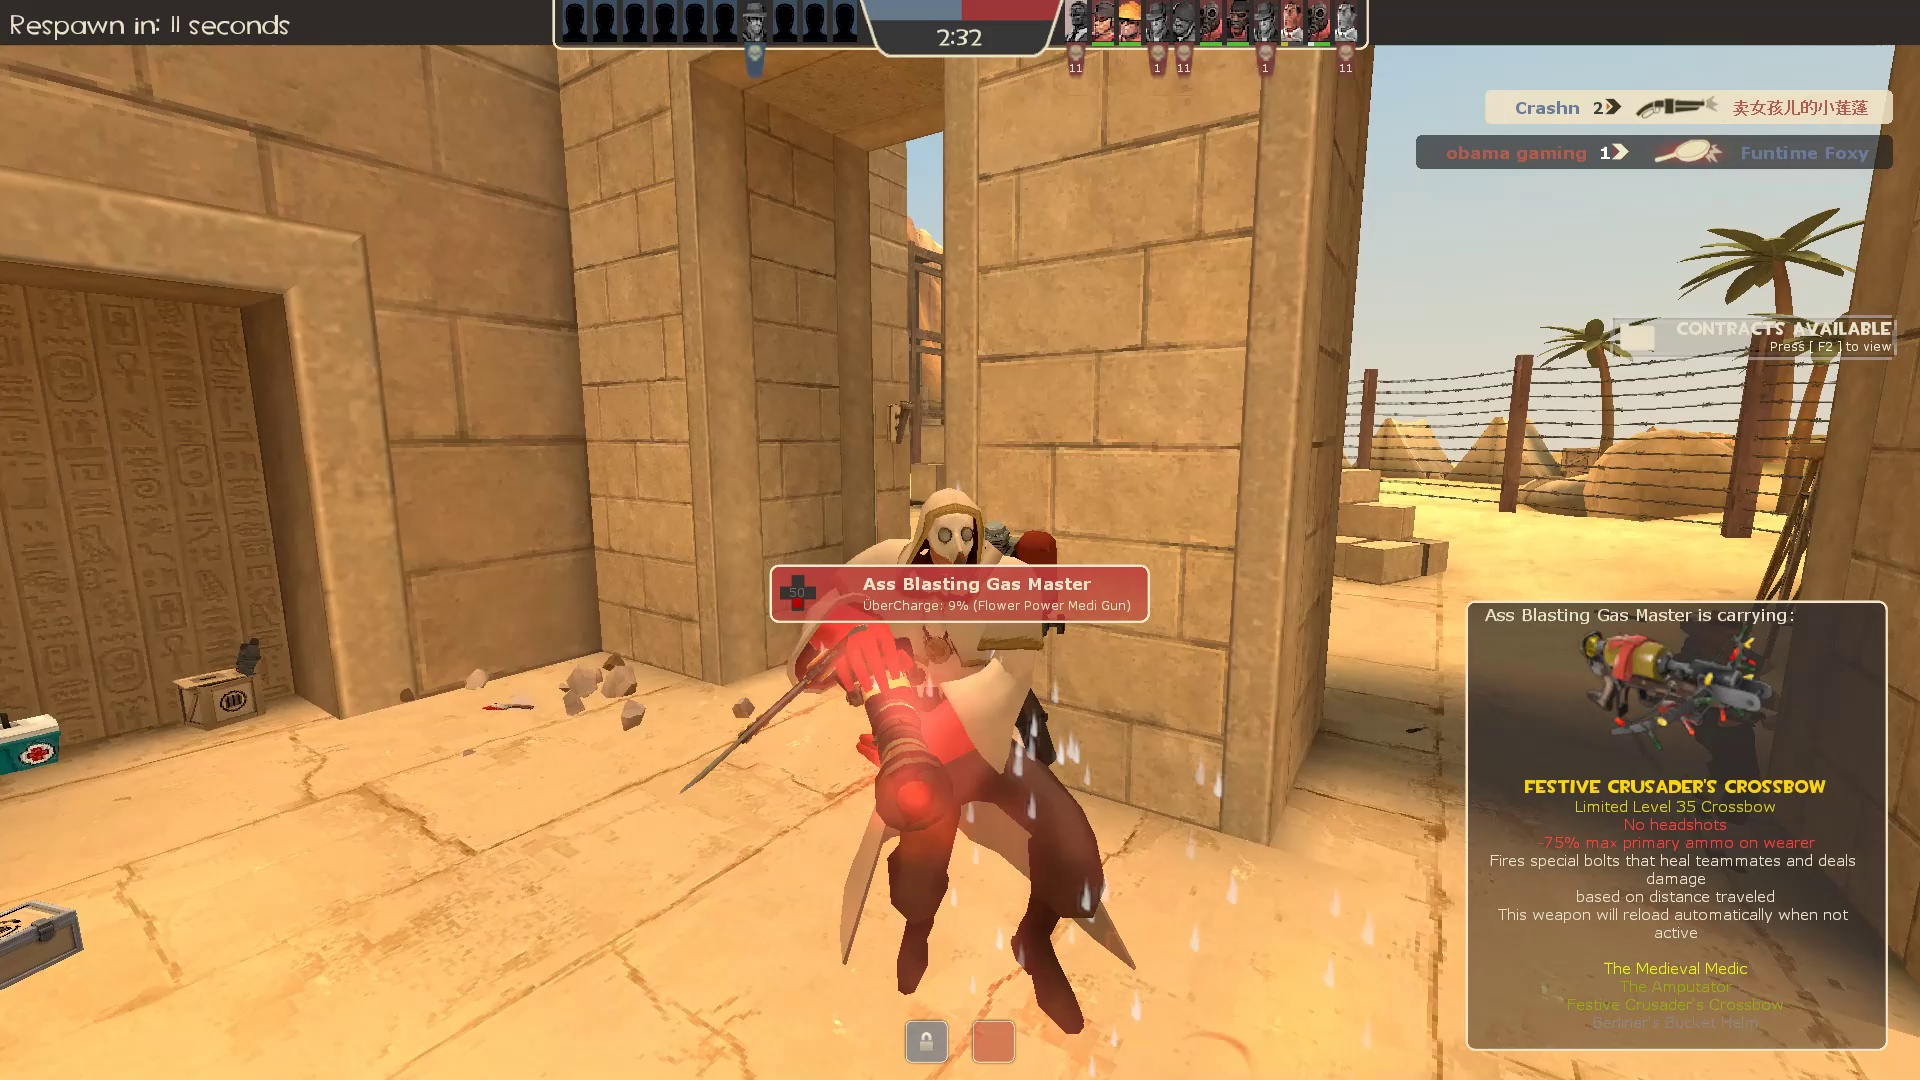red_medic: (738, 481, 1175, 1062)
